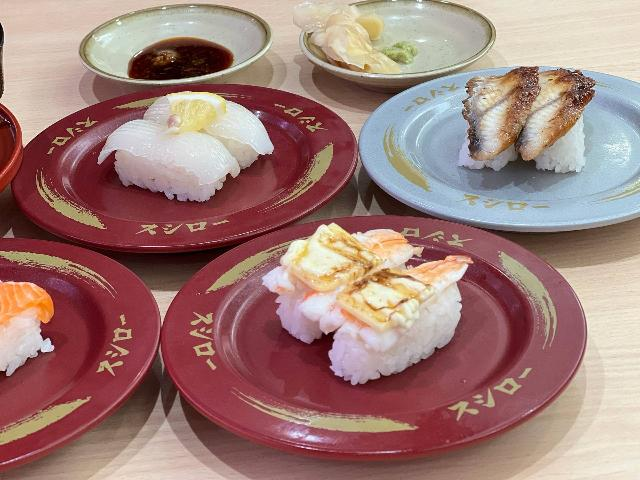janred: (169, 228, 587, 446), (3, 107, 362, 234), (0, 236, 164, 422), (1, 90, 27, 182)
janwhite: (367, 73, 640, 244)
